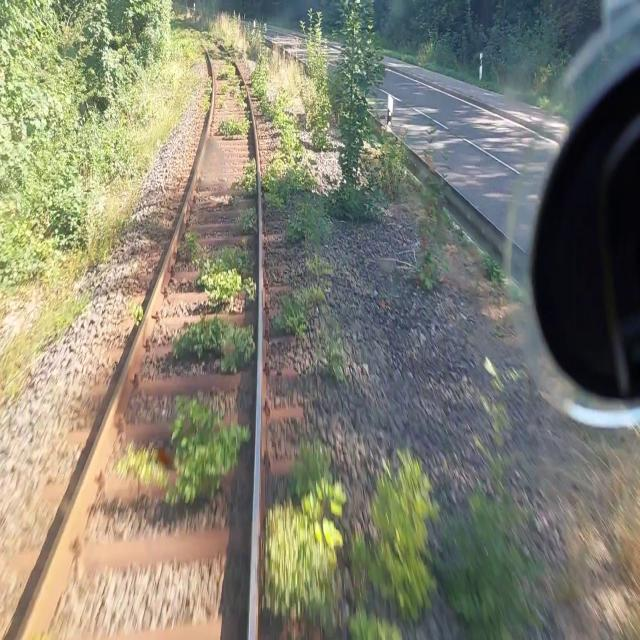Plant: (346, 443, 438, 639), (258, 439, 346, 639), (250, 65, 322, 207), (169, 389, 252, 507), (185, 228, 257, 313), (170, 309, 256, 377), (283, 197, 333, 279), (271, 284, 328, 337), (114, 444, 169, 488), (165, 28, 227, 66), (320, 316, 348, 377), (233, 156, 257, 195), (218, 111, 252, 137), (207, 24, 238, 51), (217, 57, 239, 85), (239, 204, 258, 233), (201, 76, 212, 119), (127, 299, 144, 326), (236, 84, 249, 111), (218, 95, 225, 108), (228, 88, 237, 98), (219, 84, 228, 92)
